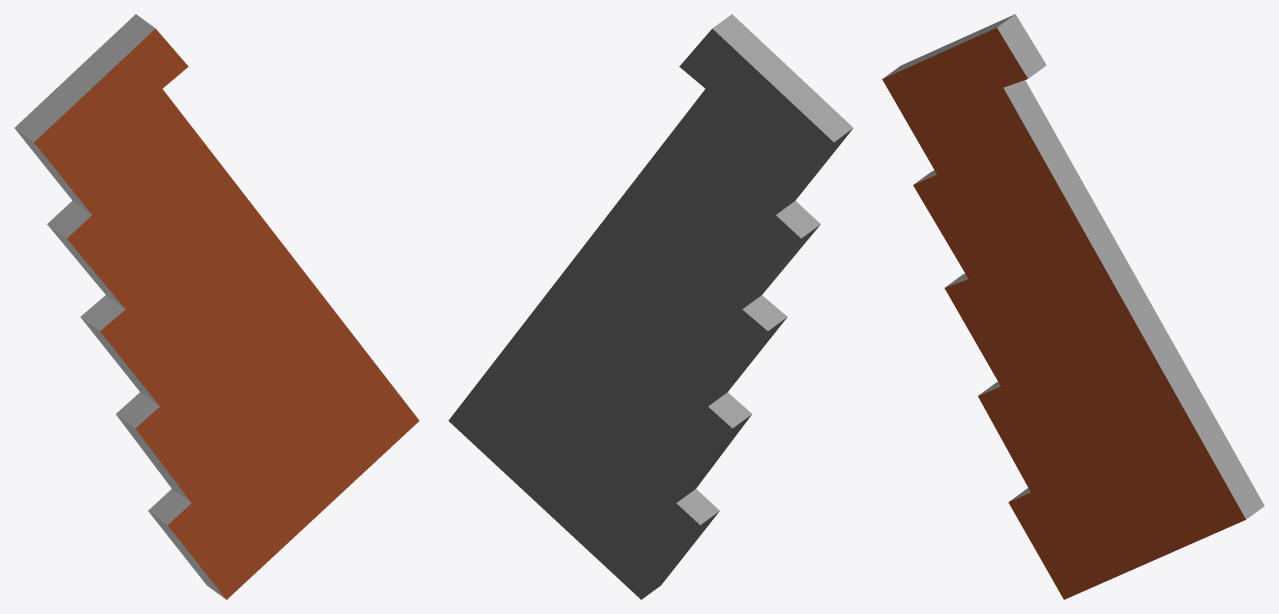
File: construction_4914_assumed_A_Casa_h6m.obj
The picture shows the model from 3 angles, left to right: view 1: azimuth 30°, elevation 25°; view 2: azimuth 150°, elevation 25°; view 3: azimuth 330°, elevation 25°; orthographic projection. The views are drawn at different scales.
Parts seen in each view (by area): view 1: construction_4914_assumed_A_Casa; view 2: construction_4914_assumed_A_Casa; view 3: construction_4914_assumed_A_Casa.
Boxes of the visible parts, box(x1,y1,x2,y2) form: construction_4914_assumed_A_Casa: box(14, 14, 419, 599); construction_4914_assumed_A_Casa: box(448, 14, 853, 599); construction_4914_assumed_A_Casa: box(882, 14, 1264, 599).
Size of the model in its own units: 67.61 by 98.66 by 6.
